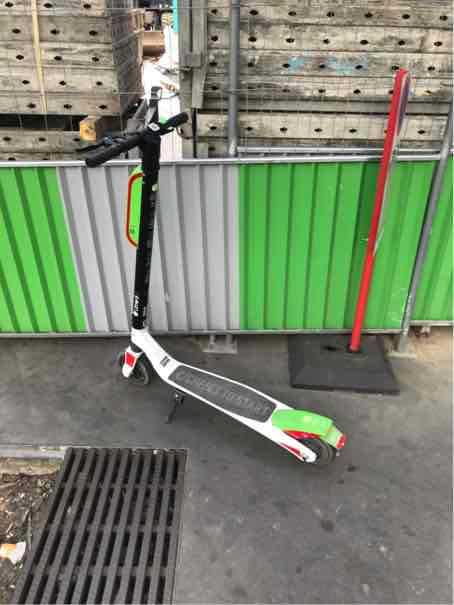scooter: (67, 106, 353, 481)
